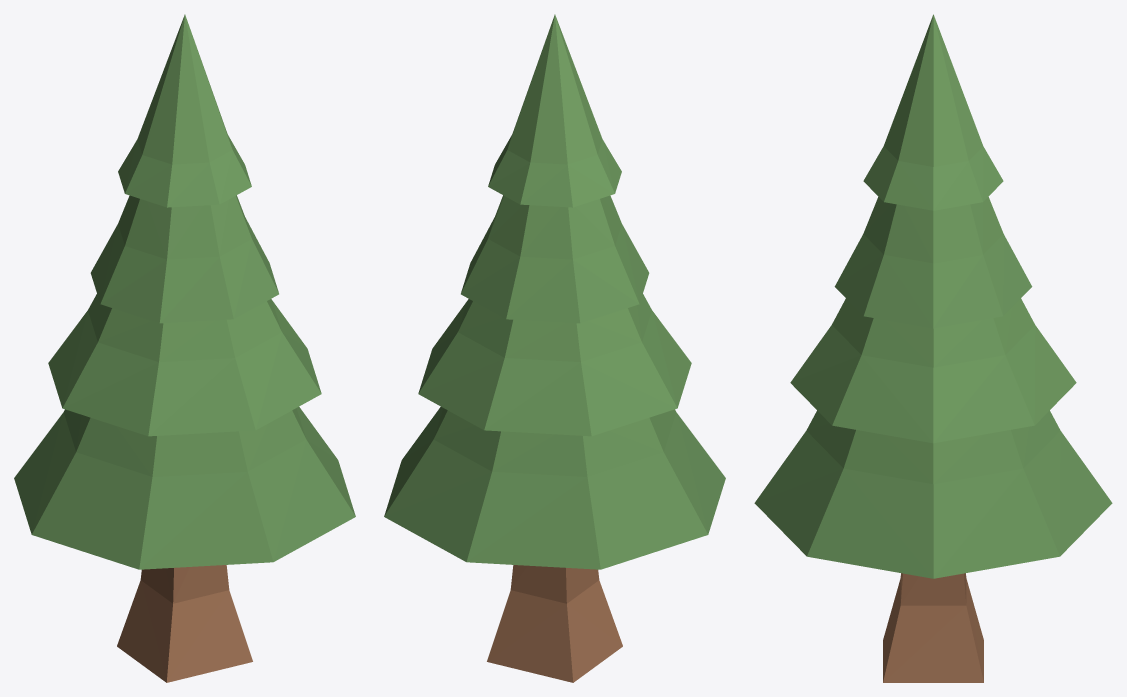
Rendered from forest-pine-0.glb.
3 renders of one model, left to right at view 1: azimuth 30°, elevation 25°; view 2: azimuth 150°, elevation 25°; view 3: azimuth 270°, elevation 25°, orthographic.
Parts seen in each view (by area): view 1: forest-pine-0; view 2: forest-pine-0; view 3: forest-pine-0.
Part boxes in pixels (box(x1,y1,x2,y2)): forest-pine-0: box(14, 14, 355, 682); forest-pine-0: box(384, 14, 725, 682); forest-pine-0: box(754, 14, 1112, 682).
Size of the model in its own units: 0.9207 by 1.84 by 0.9207.
